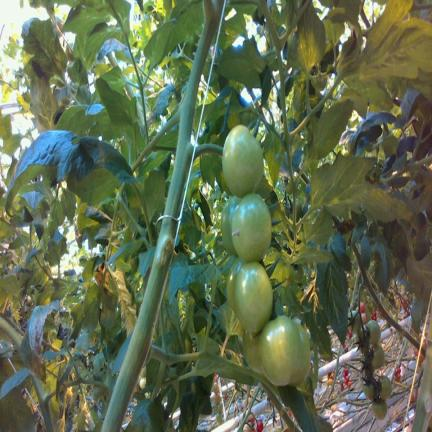6kp_peduncle: (169, 115, 224, 196), (358, 268, 374, 311)
6kp_petiole: (117, 307, 188, 395), (152, 72, 201, 150), (35, 384, 56, 422)
MainStem: (101, 0, 226, 431), (353, 244, 421, 350), (411, 301, 432, 432), (31, 375, 56, 432)
tomato: (222, 125, 263, 197), (259, 315, 301, 385), (234, 262, 272, 333), (232, 193, 271, 262), (290, 323, 310, 386), (221, 196, 241, 254), (227, 257, 244, 311), (243, 330, 263, 373), (352, 330, 367, 354), (366, 320, 380, 345), (371, 345, 385, 369), (348, 310, 361, 334), (379, 375, 392, 399), (373, 398, 387, 418), (363, 382, 375, 400), (256, 419, 263, 431), (216, 413, 222, 424), (217, 402, 222, 414), (361, 313, 366, 323), (360, 302, 364, 312)
